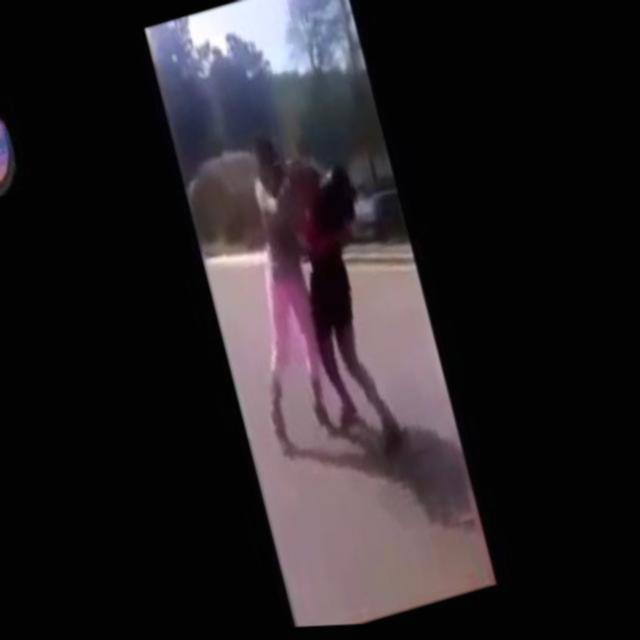fight: (218, 114, 414, 470)
